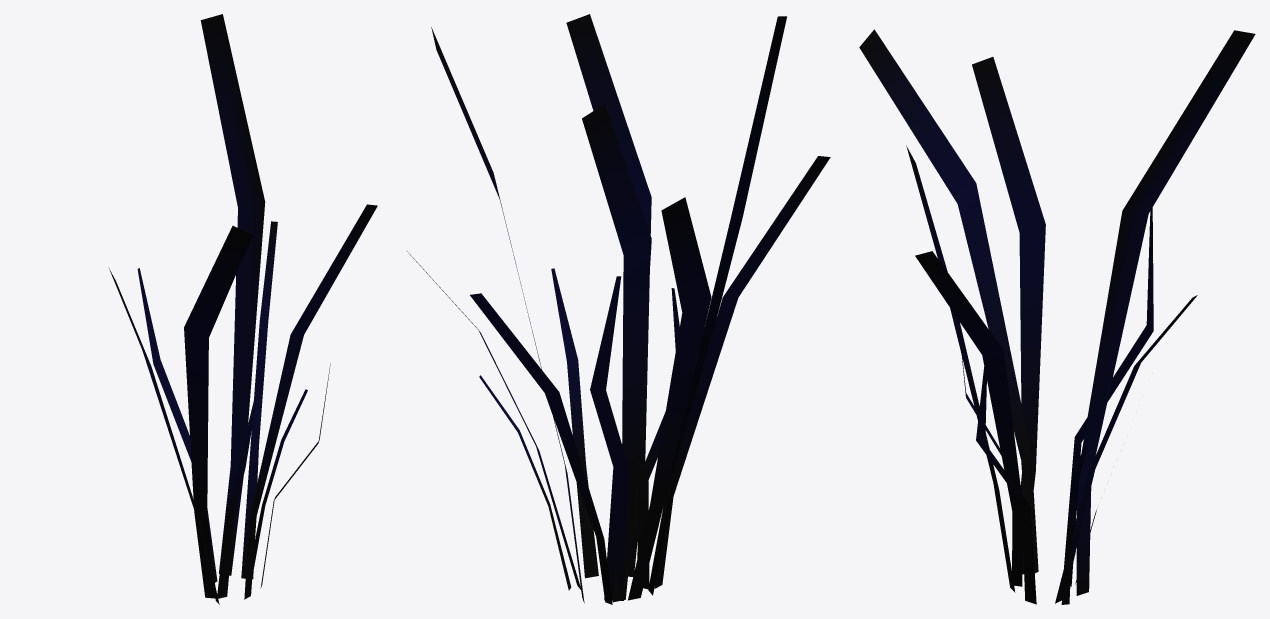
The model's file is SM_Foliage_ReedA_02.fbx.
3 views of the same model, side by side, from view 1: azimuth 30°, elevation 25°; view 2: azimuth 150°, elevation 25°; view 3: azimuth 270°, elevation 25° (orthographic). The views are drawn at different scales.
Parts seen in each view (by area): view 1: SM_Foliage_ReedA_02; view 2: SM_Foliage_ReedA_02; view 3: SM_Foliage_ReedA_02.
Boxes of the visible parts, box(x1,y1,x2,y2) form: SM_Foliage_ReedA_02: box(108, 14, 377, 604); SM_Foliage_ReedA_02: box(407, 14, 830, 604); SM_Foliage_ReedA_02: box(859, 29, 1255, 604).
Size of the model in its own units: 60.36 by 68.04 by 114.
